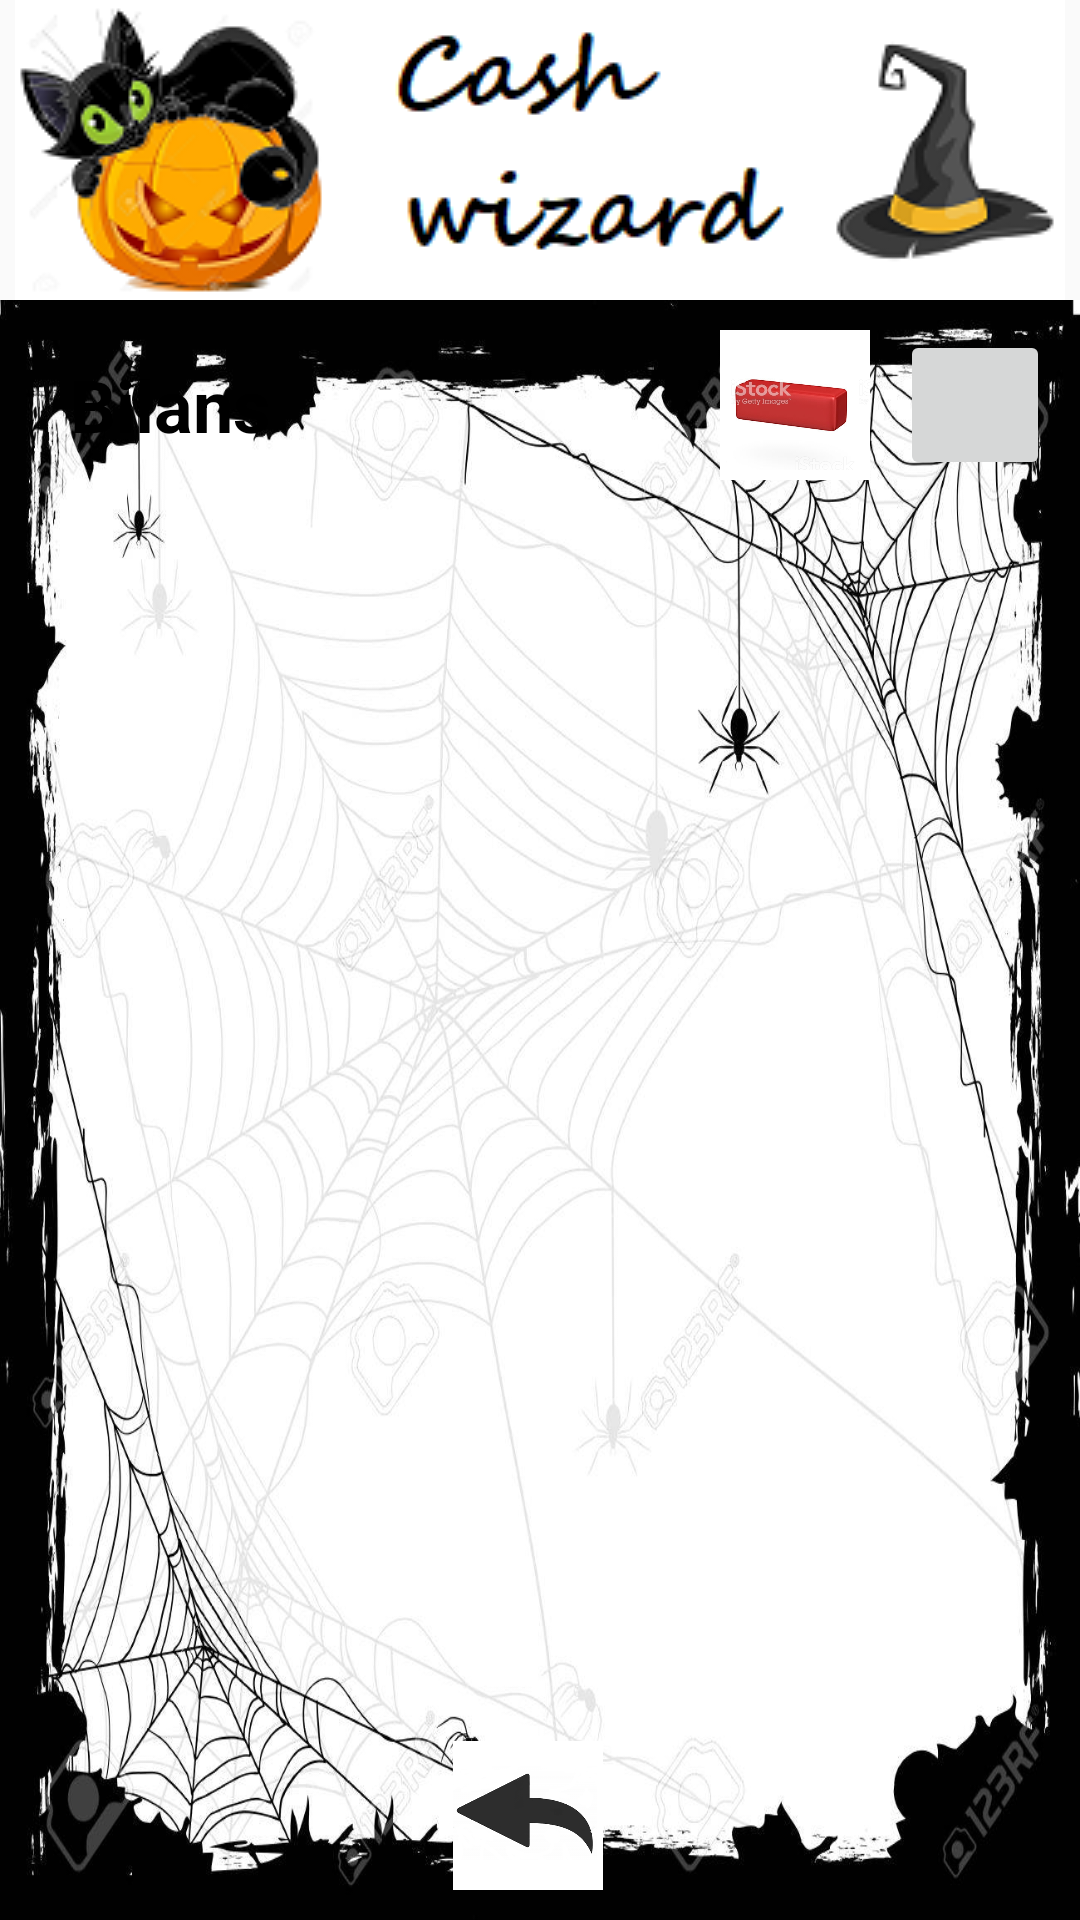

Icon click points for this 1080*1920 phone screenshot, format (x,y):
back: (528,1816)
